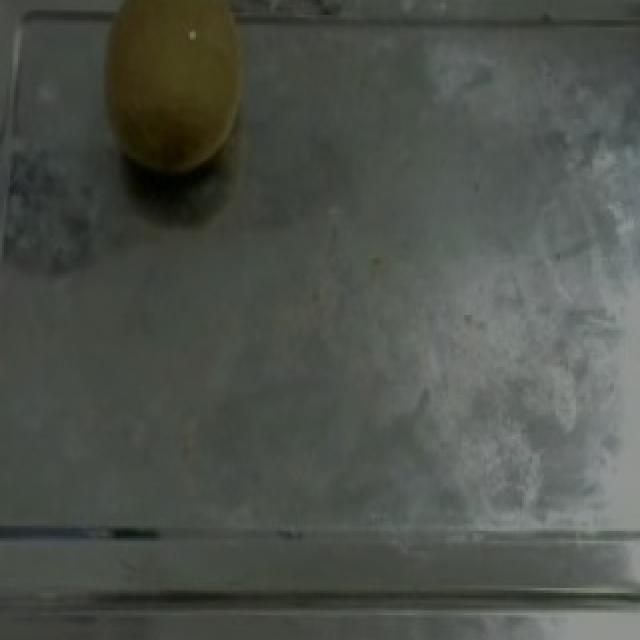Fruit: (80, 0, 262, 186)
